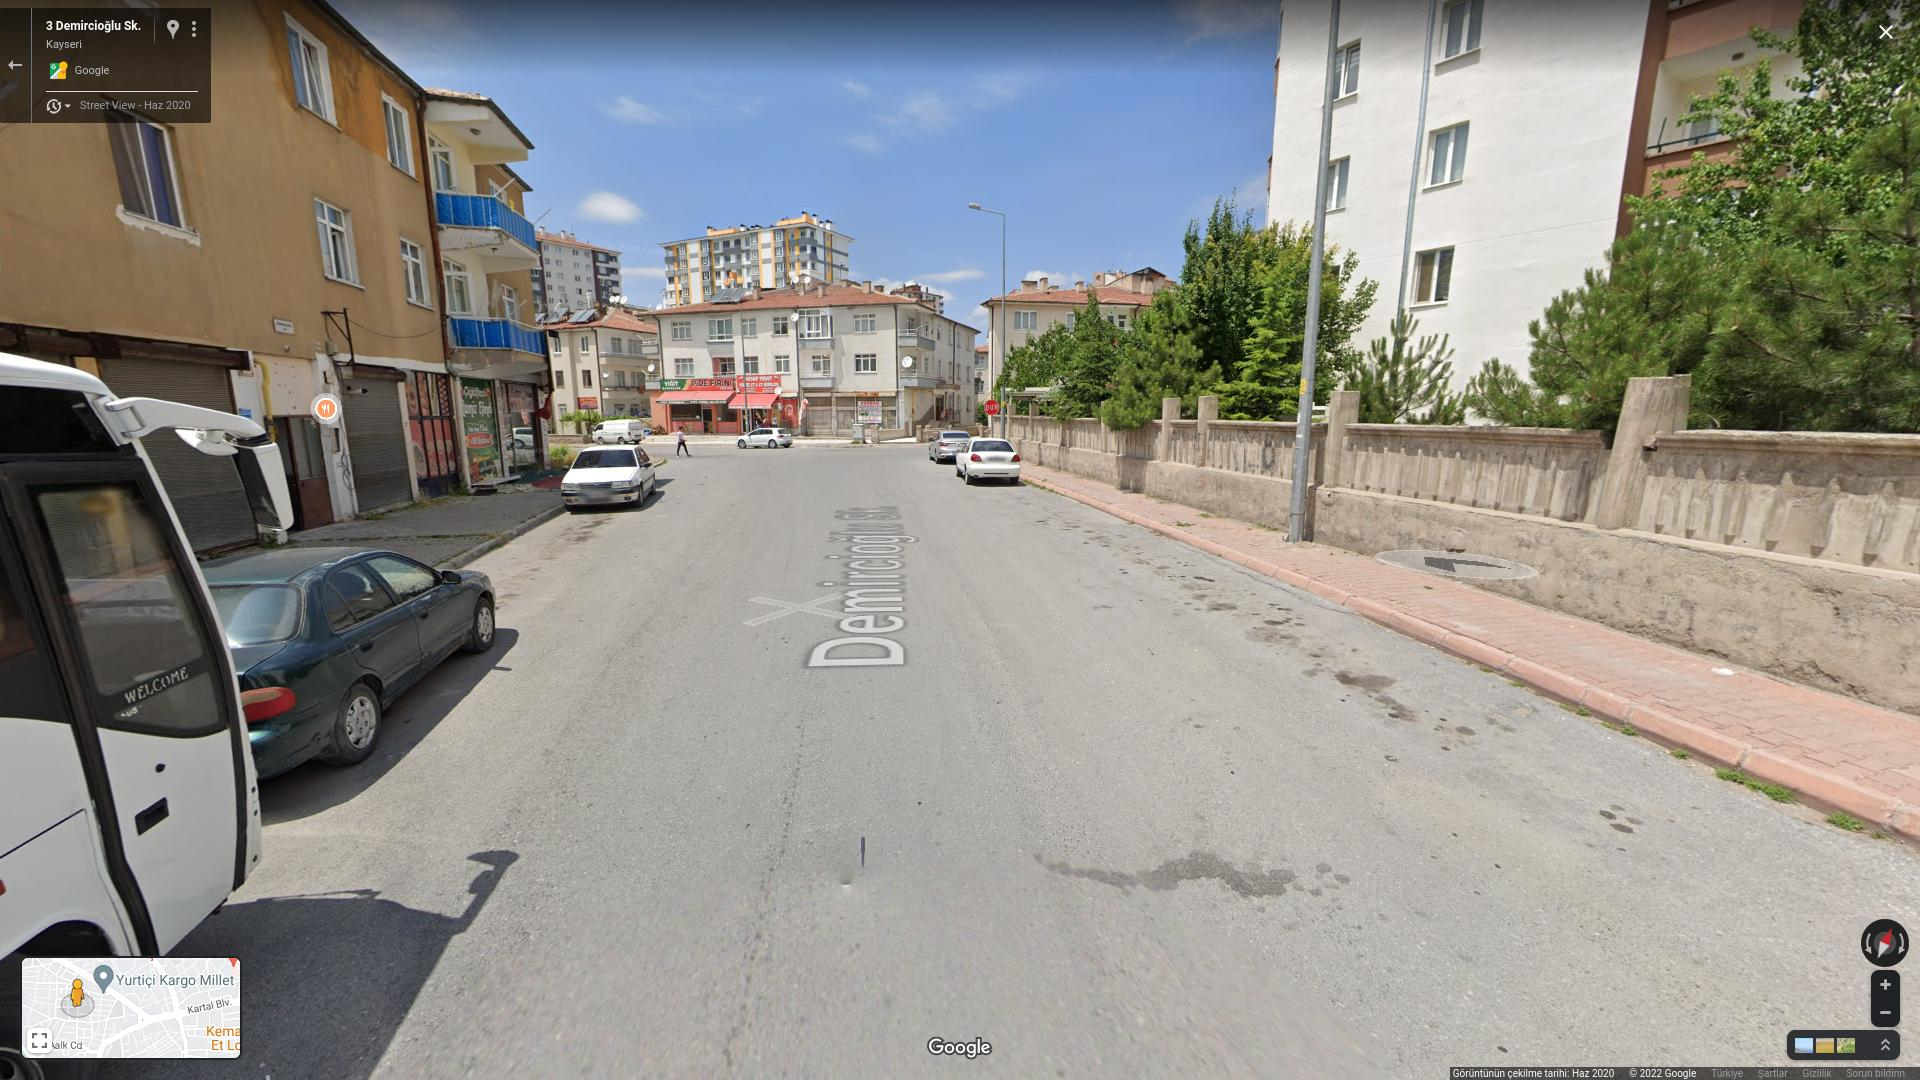stop: (982, 398, 1002, 418)
